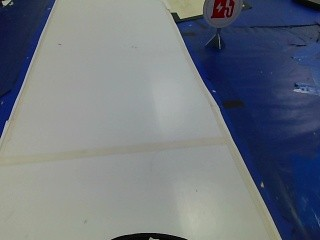battery: (200, 0, 244, 24)
